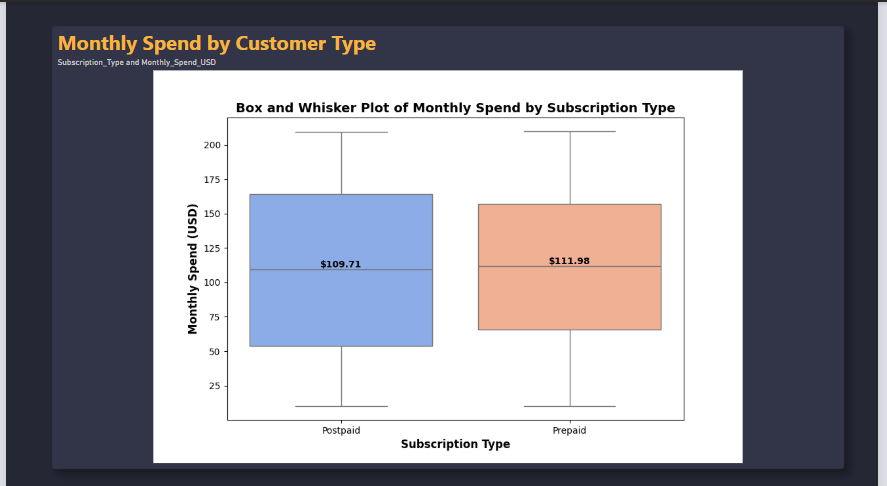

The page's visual inventory and layout, read from the dashboard file:
{"tool":"powerbi","page":{"name":"Monthly Spend by Customer Type","canvas":[1280,720],"ordinal":3},"visuals":[{"type":"pythonVisual","title":"Monthly Spend by Customer Type","fields":{"Values":["Sheet1.Subscription_Type","Sheet1.Monthly_Spend_USD"]},"box":[67.9,34.7,1163.7,650.5],"z":0}]}

Visuals, with their boxes on the page's 1280x720 design canvas (x1, y1, x2, y2). These are canvas units, not pixel positions in the 887x486 screenshot, which may show the page scaled, cropped or inside an application window:
"Monthly Spend by Customer Type" pythonVisual: crop(68, 35, 1232, 685)
